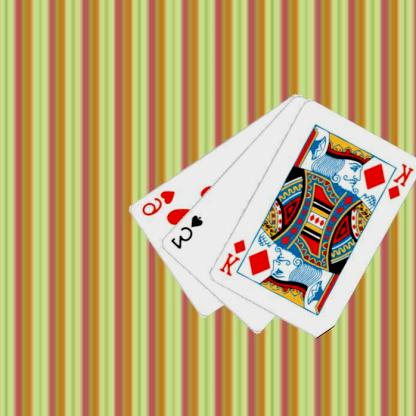3S: (169, 212, 206, 250)
9H: (140, 187, 178, 218)
KD: (218, 236, 249, 278), (386, 161, 416, 201)
